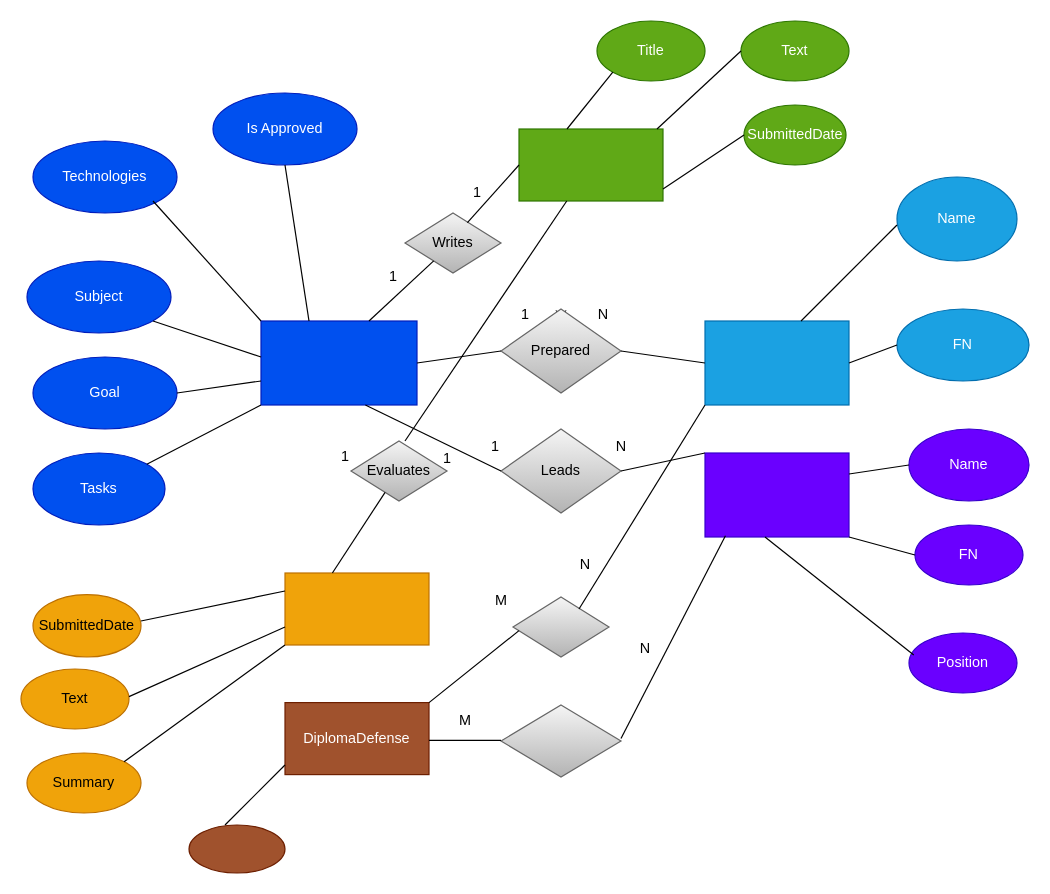
The diagram is 1050 pixels wide and 894 high, and some of its shapes have lost their labels. The shapes that lost their labels are listed below. From the top down, each one's centre as x and y in pixels, then its label:
At (x=590, y=164): "Thesis".
At (x=338, y=362): "Application".
At (x=776, y=362): "Student".
At (x=776, y=494): "Teacher".
At (x=356, y=608): "Review".
At (x=560, y=626): "Attends".
At (x=560, y=740): "Juries".
At (x=236, y=848): "Grade".
